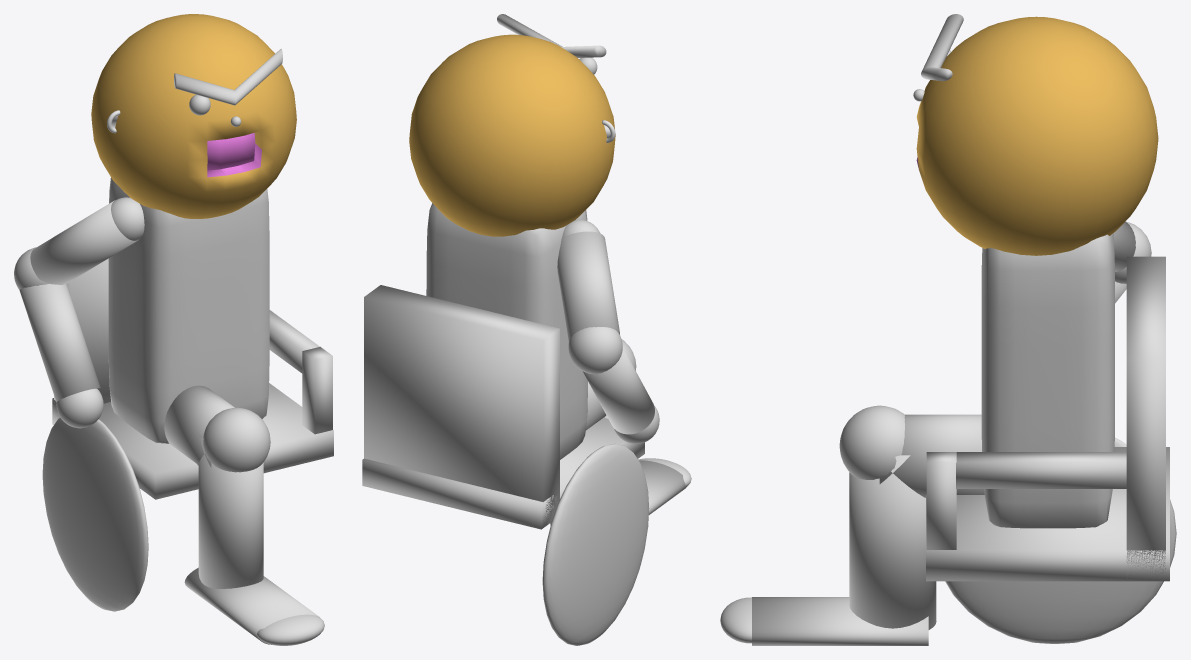
The model's file is GrandmaBobinson.fbx.
The picture shows the model from 3 angles, left to right: view 1: azimuth 30°, elevation 25°; view 2: azimuth 150°, elevation 25°; view 3: azimuth 270°, elevation 25°; orthographic projection. The views are drawn at different scales.
Parts seen in each view (by area): view 1: Cube.001, Sphere, Sphere.008, Cylinder.009, Cube.002, Cylinder.007, Cylinder.006, Cylinder.010, Sphere.006, Cube.003, Cylinder.008, Cube.005 (+6 smaller); view 2: Cube.003, Sphere, Sphere.008, Cube.001, Cube.002, Cylinder.006, Cylinder.007, Sphere.004, Cylinder.010, Cylinder.001, Sphere.005, Cylinder.008; view 3: Sphere, Cube.001, Cube.002, Cube.003, Cylinder.009, Sphere.008, Cylinder.010, Cube.004, Cylinder.008, Sphere.006, Cube.005, Cylinder.001 (+2 smaller).
Part boxes in pixels (x1,y1,x2,y2): Cube.001: (108, 177, 269, 443); Sphere: (91, 14, 296, 218); Sphere.008: (42, 417, 148, 611); Cylinder.009: (198, 434, 263, 588); Cube.002: (52, 383, 333, 499); Cylinder.007: (19, 284, 100, 402); Cylinder.006: (30, 200, 138, 284); Cylinder.010: (184, 567, 319, 644); Sphere.006: (203, 407, 270, 472); Cube.003: (54, 258, 110, 417); Cylinder.008: (164, 385, 234, 467); Cube.005: (302, 346, 332, 434); Cube.003: (364, 285, 559, 526); Sphere: (409, 34, 615, 236); Sphere.008: (542, 443, 649, 645); Cube.001: (426, 203, 587, 459); Cube.002: (362, 417, 644, 529); Cylinder.006: (557, 231, 619, 341); Cylinder.007: (583, 347, 654, 434); Sphere.004: (568, 327, 622, 374); Cylinder.010: (550, 460, 687, 525); Cylinder.001: (497, 14, 606, 57); Sphere.005: (614, 405, 659, 443); Cylinder.008: (585, 381, 606, 430); Sphere: (916, 16, 1158, 255); Cube.001: (981, 233, 1114, 528); Cube.002: (926, 447, 1169, 581); Cube.003: (1126, 256, 1165, 579); Cylinder.009: (849, 455, 936, 629); Sphere.008: (945, 438, 1176, 643); Cylinder.010: (752, 597, 928, 645); Cube.004: (956, 452, 1126, 488); Cylinder.008: (879, 414, 984, 497); Sphere.006: (839, 405, 904, 479); Cube.005: (926, 452, 956, 549); Cylinder.001: (921, 14, 963, 81).
Bounding box in the file's own units: 263 × 604 × 374.
